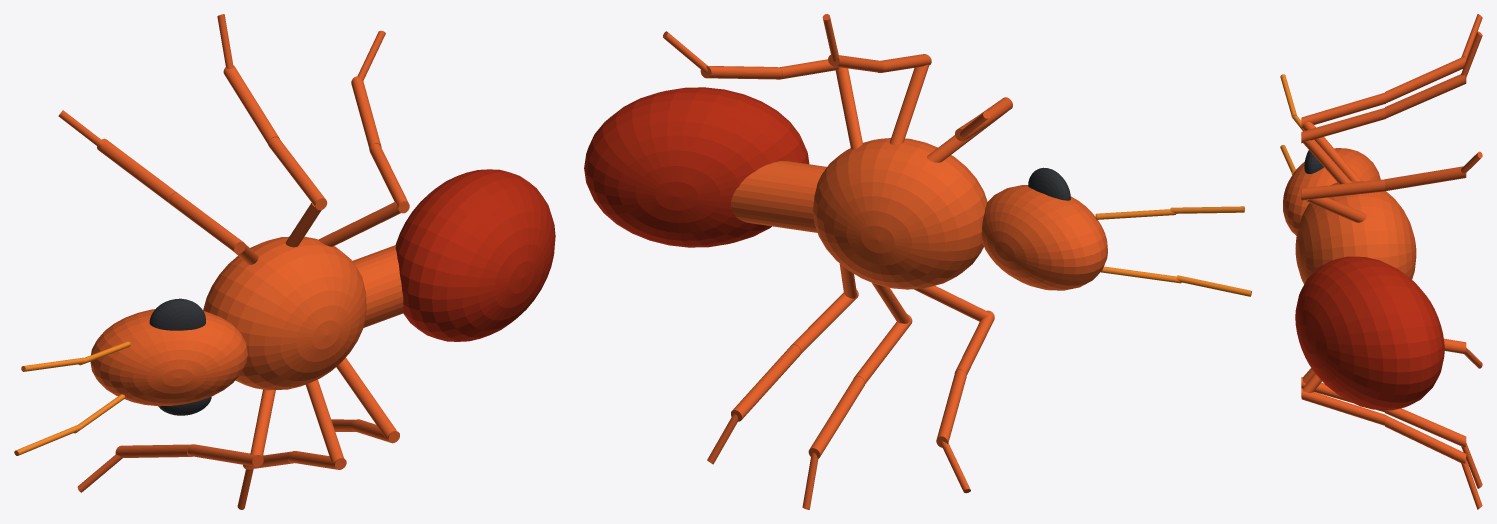
File: tinker.obj
3 renders of one model, left to right at view 1: azimuth 30°, elevation 25°; view 2: azimuth 150°, elevation 25°; view 3: azimuth 270°, elevation 25°, orthographic. The views are drawn at different scales.
Parts seen in each view (by area): view 1: group_0_-1877214, group_0_-5036274, group_0_-13947343, group_0_-687329; view 2: group_0_-1877214, group_0_-5036274, group_0_-687329, group_0_-13947343; view 3: group_0_-1877214, group_0_-5036274, group_0_-687329, group_0_-13947343.
Part boxes in pixels (x1,y1,x2,y2): group_0_-1877214: (58, 14, 409, 509); group_0_-5036274: (395, 169, 555, 341); group_0_-13947343: (149, 298, 211, 415); group_0_-687329: (14, 341, 130, 455); group_0_-1877214: (663, 14, 1107, 509); group_0_-5036274: (584, 87, 809, 247); group_0_-687329: (1095, 206, 1251, 296); group_0_-13947343: (1028, 167, 1070, 200); group_0_-1877214: (1283, 14, 1482, 509); group_0_-5036274: (1295, 256, 1444, 410); group_0_-687329: (1280, 74, 1304, 174); group_0_-13947343: (1304, 150, 1323, 173).
Size of the model in its own units: 134 by 107 by 43.95.
